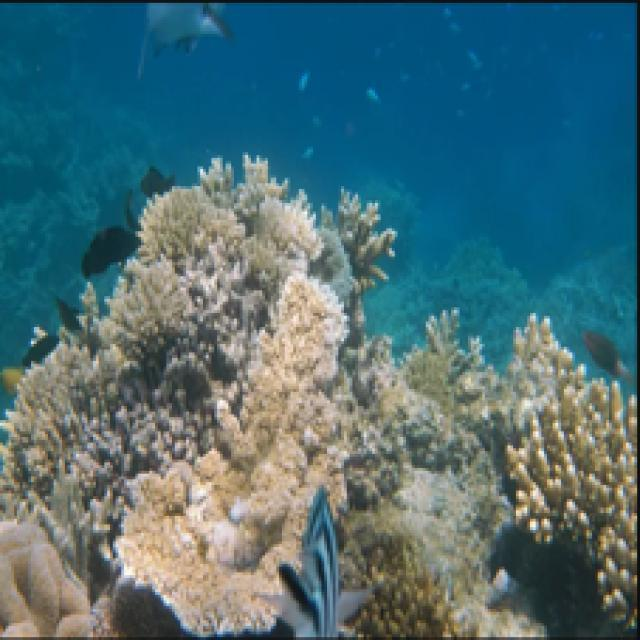Healthy: (511, 343, 640, 617), (133, 177, 246, 466), (121, 459, 279, 634), (240, 281, 351, 496), (10, 342, 132, 512), (3, 518, 101, 635), (353, 536, 460, 640), (248, 161, 326, 290), (332, 198, 389, 289)
